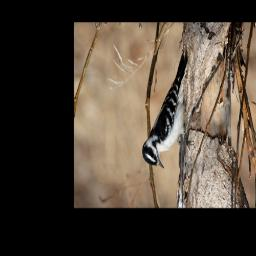Woodpecker: (142, 47, 195, 169)
